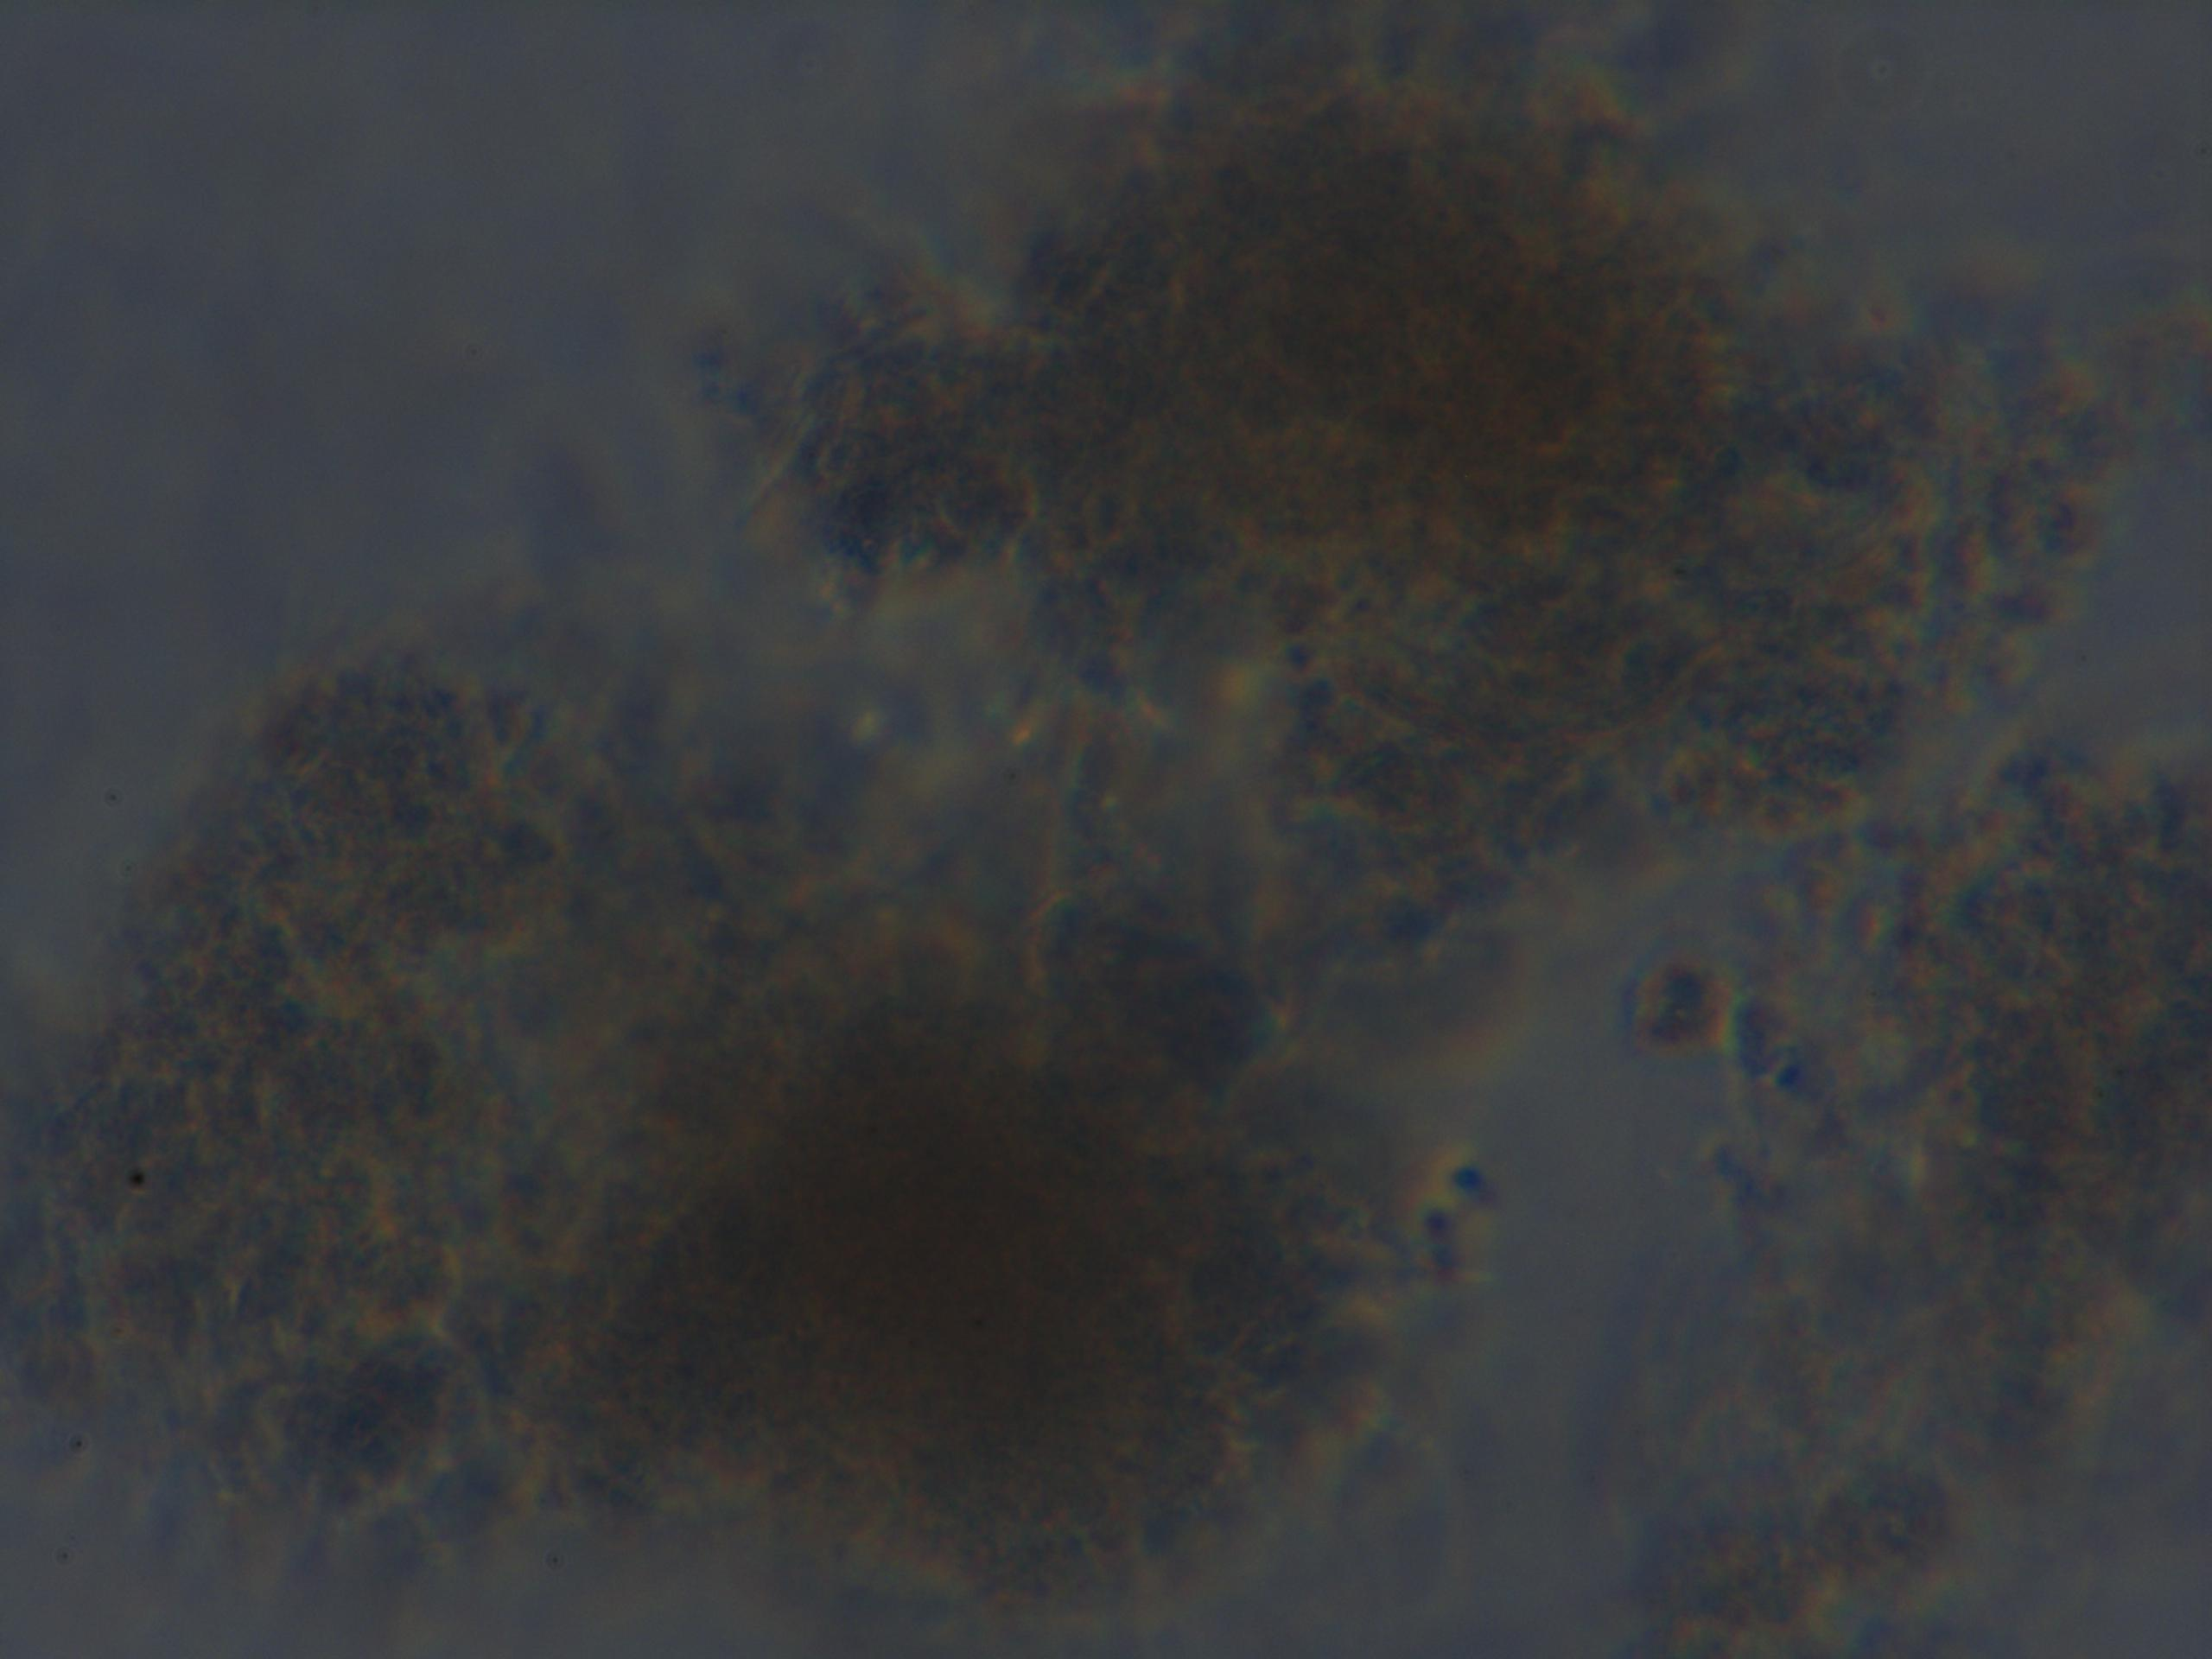open_floc: (63, 5, 2212, 1659)
